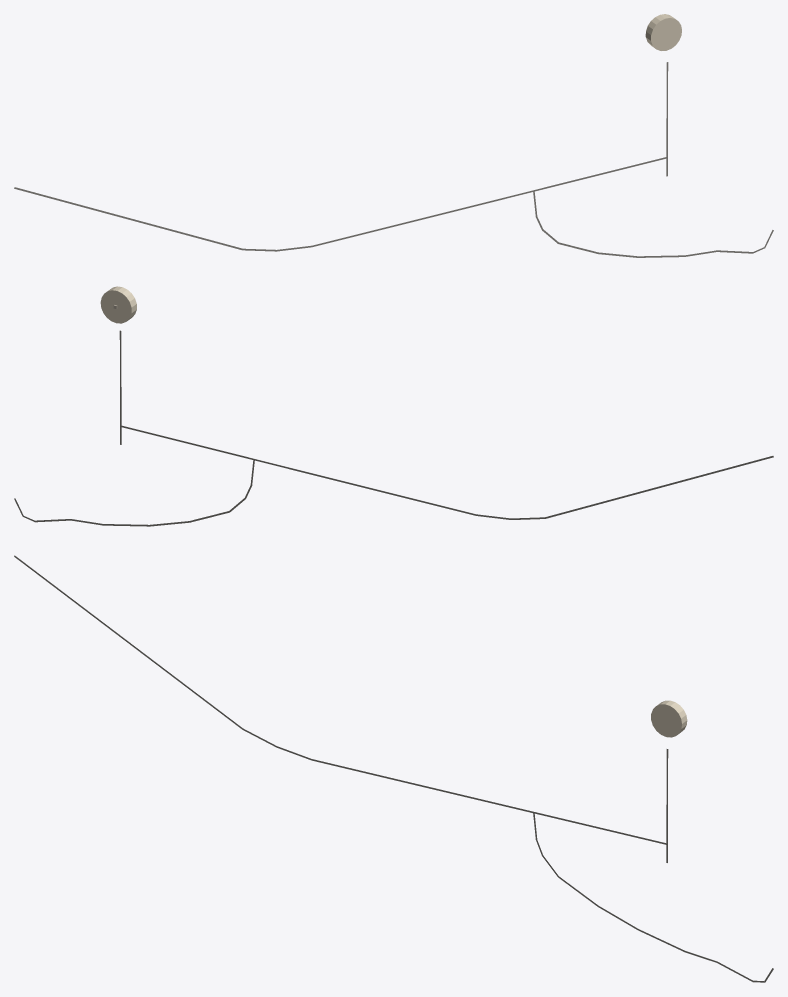
Rendered from historic-palestine-05_24_3469_3187.glb.
3 views of the same model, one above another, from view 1: azimuth 30°, elevation 25°; view 2: azimuth 150°, elevation 25°; view 3: azimuth 330°, elevation 25° (orthographic).
Visible parts, largest first — view 1: Road, Building_, Road .002; view 2: Road, Building_, Road .002; view 3: Road, Building_.
Part boxes in pixels (bbox=[...]): Road: bbox=[14, 157, 667, 251]; Building_: bbox=[645, 14, 681, 50]; Road .002: bbox=[533, 191, 773, 257]; Road: bbox=[120, 425, 773, 519]; Building_: bbox=[100, 286, 136, 323]; Road .002: bbox=[14, 459, 254, 526]; Road: bbox=[14, 555, 667, 844]; Building_: bbox=[651, 700, 687, 737].
Size of the model in its own units: 625 by 202 by 8.7.
